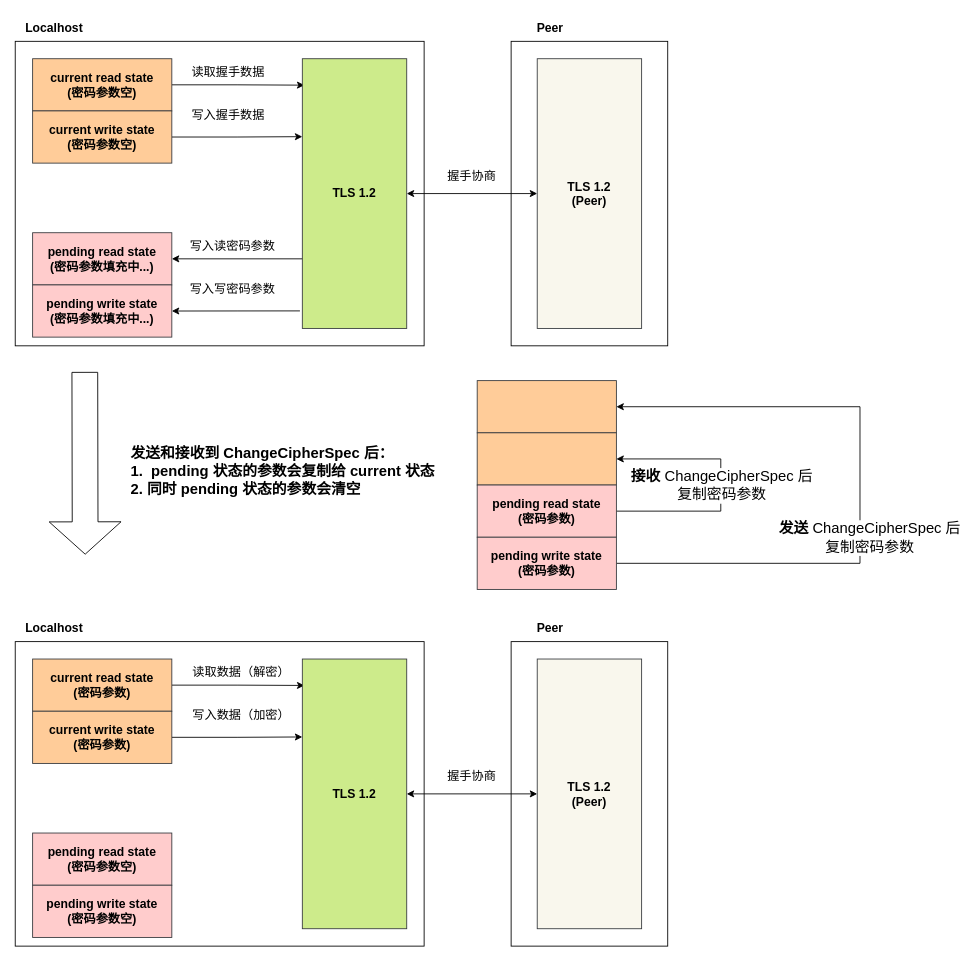
The diagram is 975 pixels wide and 961 high, and some of its shapes have lost their labels. The centre of each missing label's shape, as x and y in pixels:
current read state (空): point 546,458
current write state (空): point 546,406
